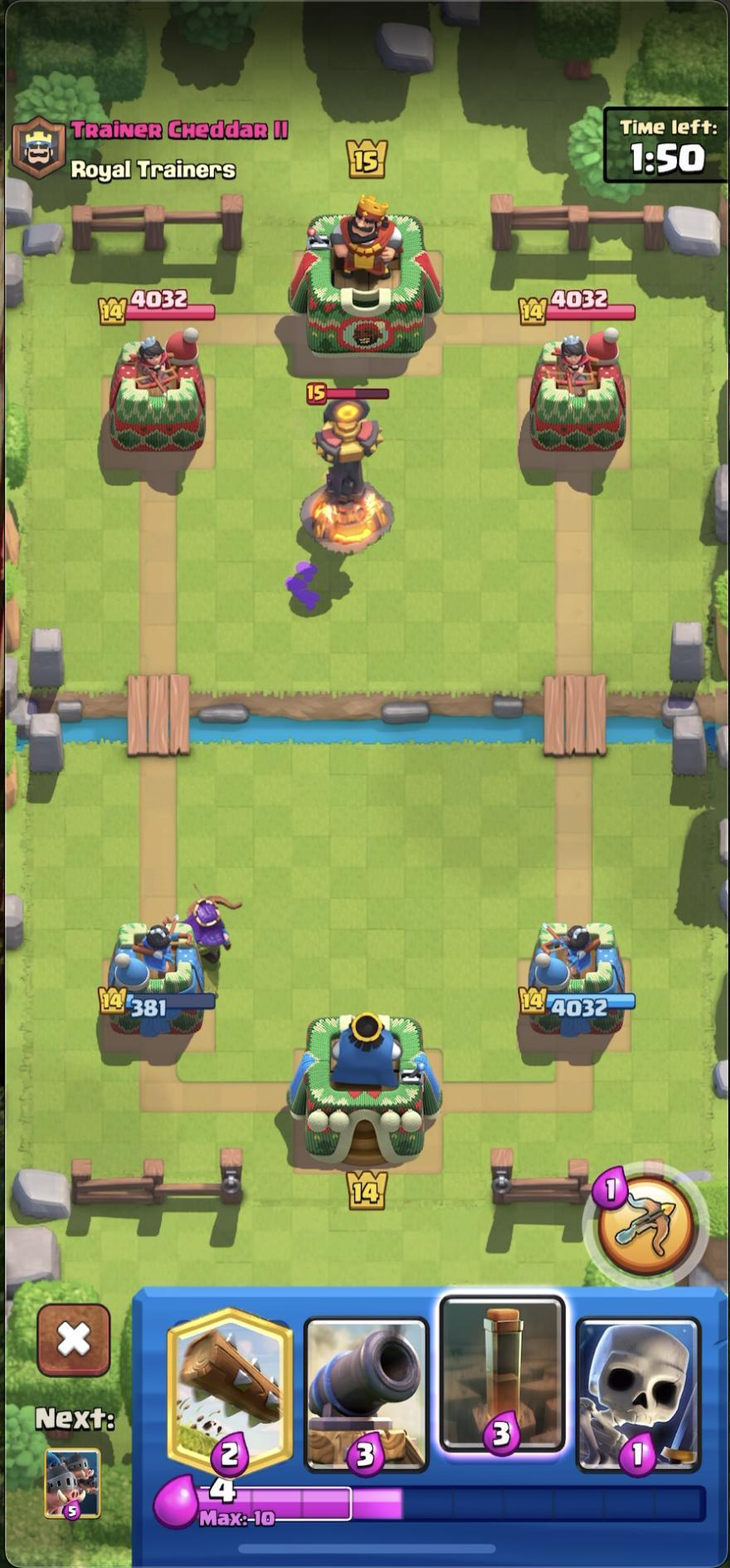card_cannon: (305, 1313, 430, 1474)
card_earthquake: (434, 1290, 569, 1465)
card_log: (156, 1305, 294, 1477)
card_royalhogs: (41, 1445, 104, 1525)
card_skeletons: (576, 1312, 711, 1480)
